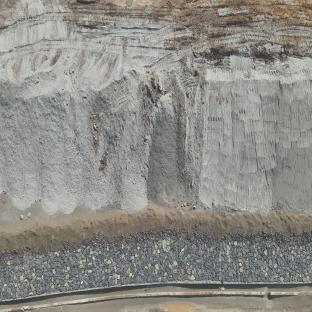rock_toe: (0, 235, 312, 296)
toe_drain: (0, 279, 312, 312)
